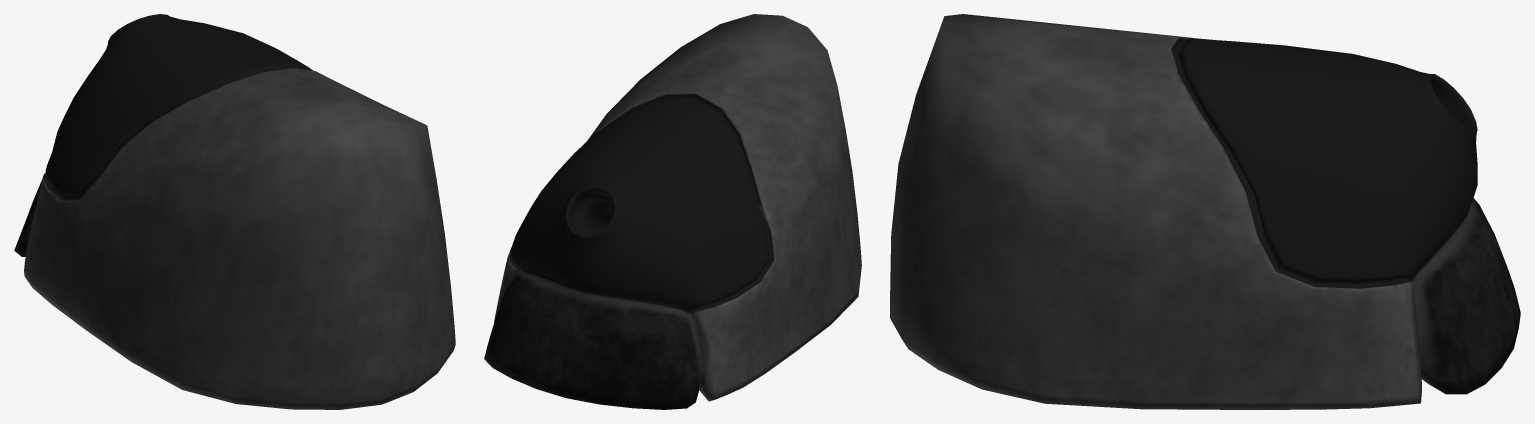
File: SM_Sharpener.fbx
3 views of the same model, side by side, from view 1: azimuth 30°, elevation 25°; view 2: azimuth 150°, elevation 25°; view 3: azimuth 270°, elevation 25° (orthographic). The views are drawn at different scales.
Visible parts, largest first — view 1: SM_Sharpener; view 2: SM_Sharpener; view 3: SM_Sharpener.
Part boxes in pixels (bbox=[...]): SM_Sharpener: bbox=[14, 14, 455, 409]; SM_Sharpener: bbox=[484, 14, 861, 409]; SM_Sharpener: bbox=[890, 14, 1520, 409].
Size of the model in its own units: 13.87 by 12.03 by 22.53.
